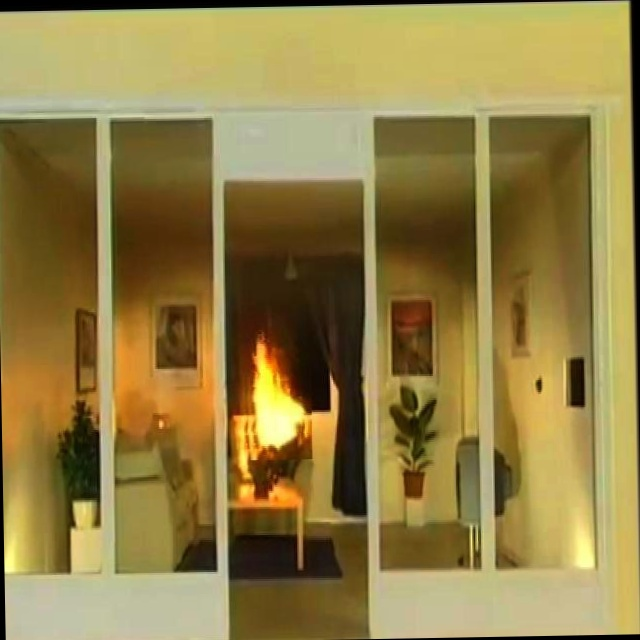fire: (234, 329, 316, 454)
